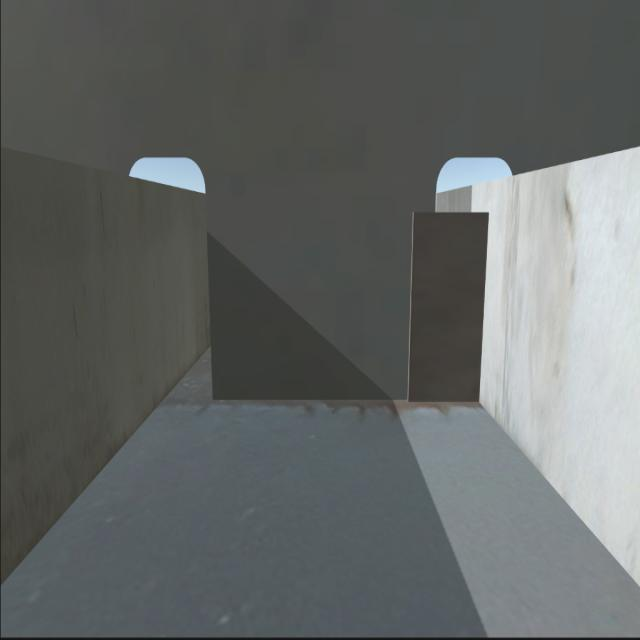fillet_yong_jeop_jang: (210, 384, 480, 410)
longi_yong_jeop_jang: (470, 205, 494, 408)
plate_CP01: (408, 212, 484, 397)
